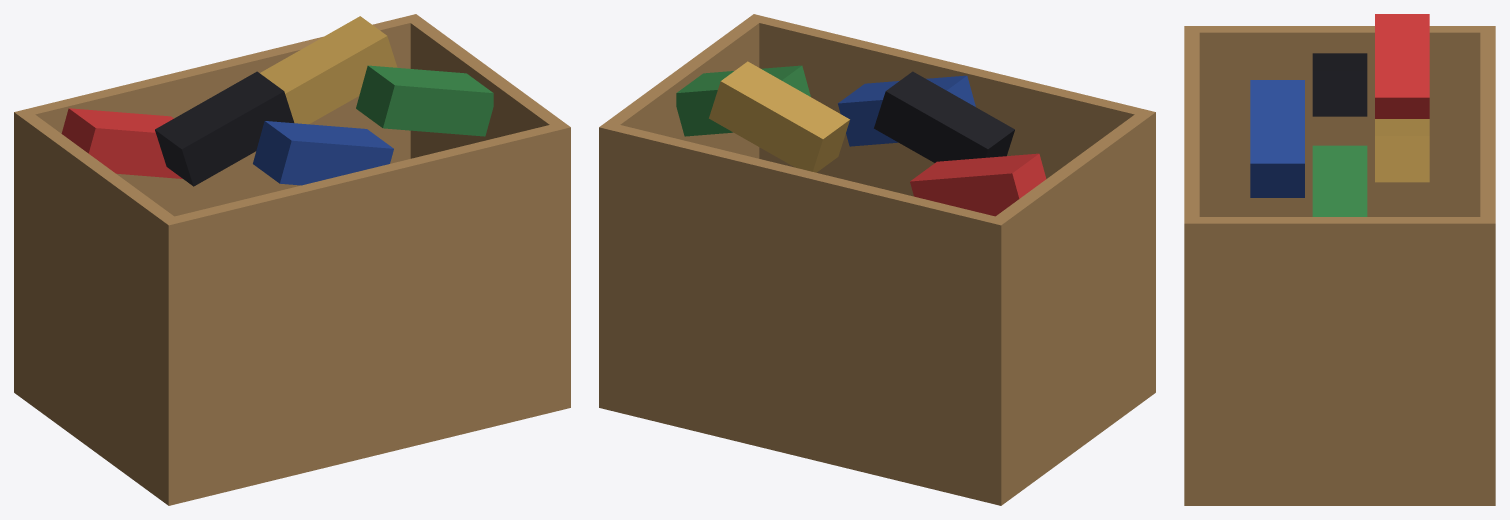
File: case_box.glb
The picture shows the model from 3 angles, left to right: view 1: azimuth 30°, elevation 25°; view 2: azimuth 150°, elevation 25°; view 3: azimuth 270°, elevation 25°; orthographic projection.
Visible parts, largest first — view 1: side_box_card, end_box_card, case_frame_1e1e24, bottom_box_card, case_frame_3a8a4a, case_frame_c8a050, case_frame_2c4f9e, case_frame_d23a3a; view 2: side_box_card, end_box_card, case_frame_c8a050, case_frame_1e1e24, bottom_box_card, case_frame_d23a3a, case_frame_2c4f9e, case_frame_3a8a4a; view 3: end_box_card, side_box_card, case_frame_2c4f9e, case_frame_d23a3a, case_frame_3a8a4a, bottom_box_card, case_frame_1e1e24, case_frame_c8a050.
Part boxes in pixels (left/top/right/bottom): side_box_card: left=14, top=14, right=570, bottom=505; end_box_card: left=14, top=14, right=570, bottom=505; case_frame_1e1e24: left=155, top=71, right=294, bottom=186; bottom_box_card: left=14, top=379, right=570, bottom=505; case_frame_3a8a4a: left=356, top=65, right=493, bottom=136; case_frame_c8a050: left=260, top=16, right=397, bottom=124; case_frame_2c4f9e: left=253, top=121, right=393, bottom=185; case_frame_d23a3a: left=61, top=108, right=182, bottom=178; side_box_card: left=599, top=14, right=1155, bottom=505; end_box_card: left=599, top=14, right=1155, bottom=505; case_frame_c8a050: left=709, top=61, right=849, bottom=172; case_frame_1e1e24: left=874, top=71, right=1014, bottom=162; bottom_box_card: left=599, top=379, right=1155, bottom=505; case_frame_d23a3a: left=910, top=153, right=1046, bottom=216; case_frame_2c4f9e: left=837, top=75, right=975, bottom=146; case_frame_3a8a4a: left=676, top=65, right=810, bottom=136; end_box_card: left=1184, top=26, right=1495, bottom=505; side_box_card: left=1184, top=26, right=1495, bottom=505; case_frame_2c4f9e: left=1250, top=80, right=1304, bottom=197; case_frame_d23a3a: left=1375, top=14, right=1429, bottom=118; case_frame_3a8a4a: left=1312, top=145, right=1367, bottom=216; bottom_box_card: left=1184, top=492, right=1495, bottom=505; case_frame_1e1e24: left=1312, top=53, right=1367, bottom=116; case_frame_c8a050: left=1375, top=119, right=1429, bottom=182.
Bounding box in the file's own units: 0.6 × 0.4623 × 0.4.
